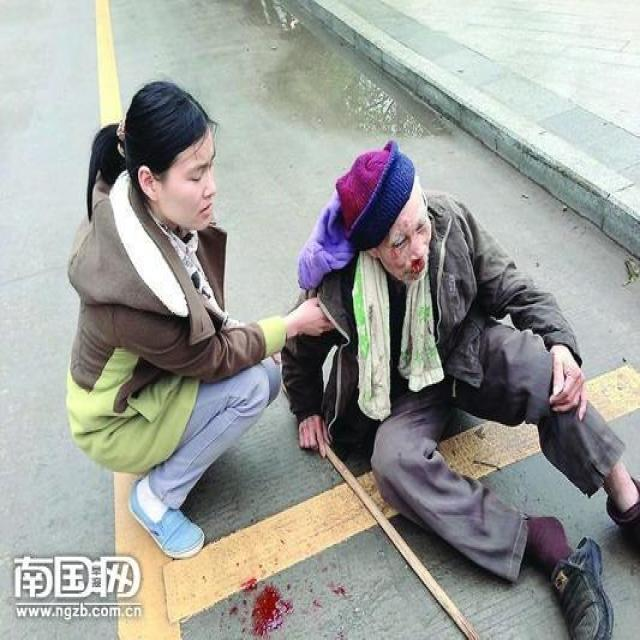fall: (283, 145, 639, 640), (67, 81, 337, 560)
